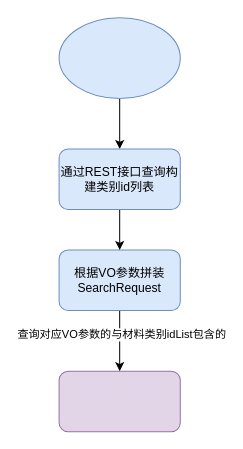
This 243x449 diagram has some shape labels left out. Each missing label, with the box of its shape:
Elastic Search: (58, 370, 180, 432)
接收前端传入的查询VO参数: (58, 17, 180, 98)
